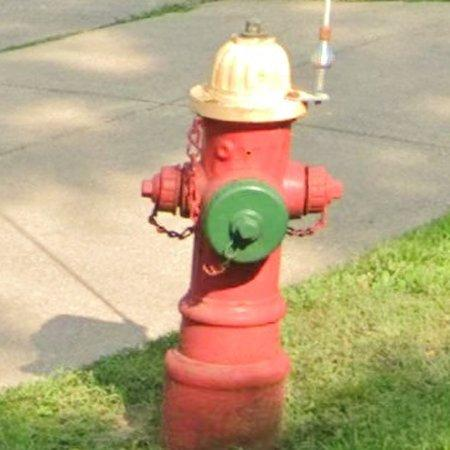a fire hydrant: (142, 22, 344, 450)
